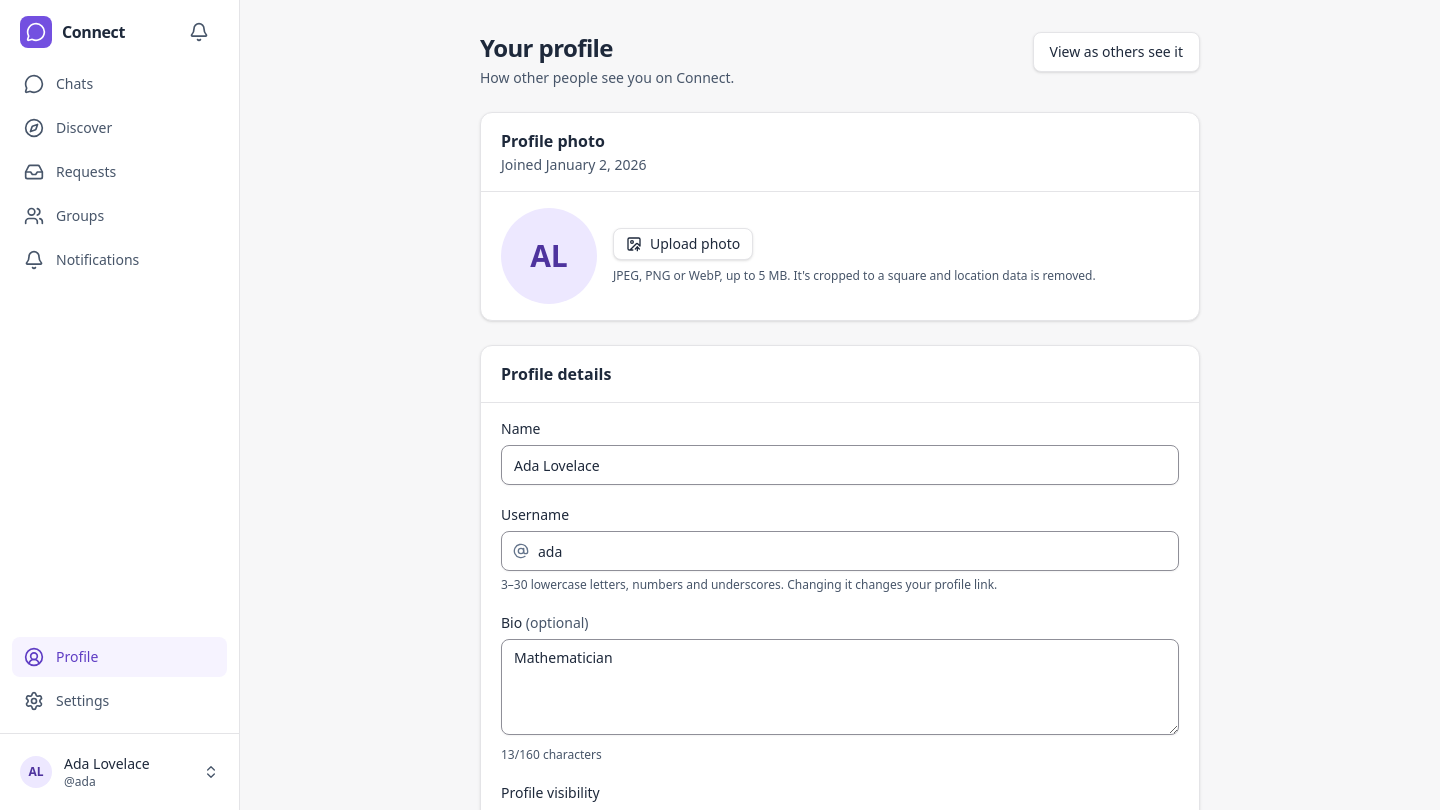
Scenario: your profile › shows a taken username next to the field
Replace the text in the field labelled "Username" with "grace" at {"x": 840, "y": 551}, box [501, 531, 1179, 571]
(page scrolled)
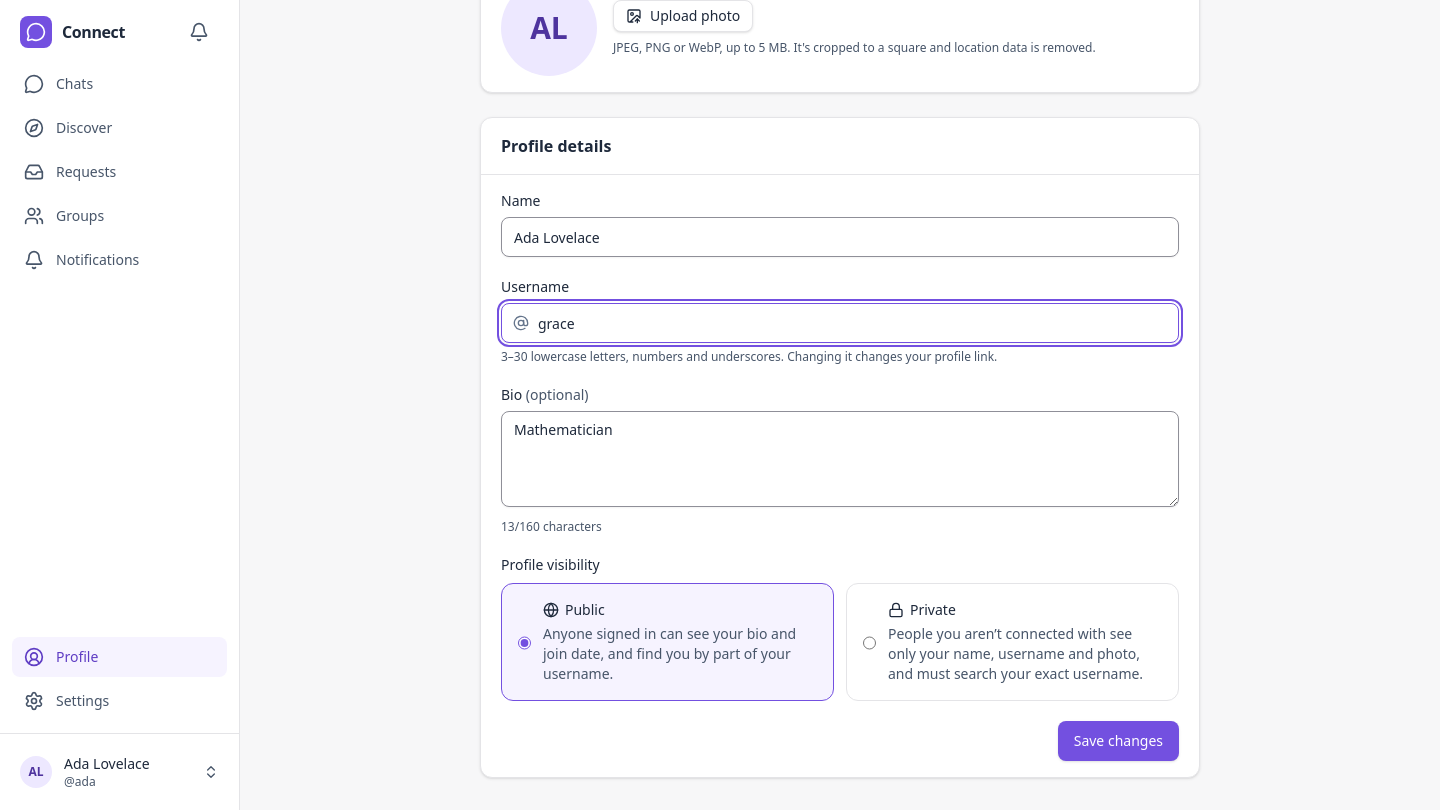
Click the button "Save changes" at {"x": 1118, "y": 741}, box [1058, 721, 1179, 761]
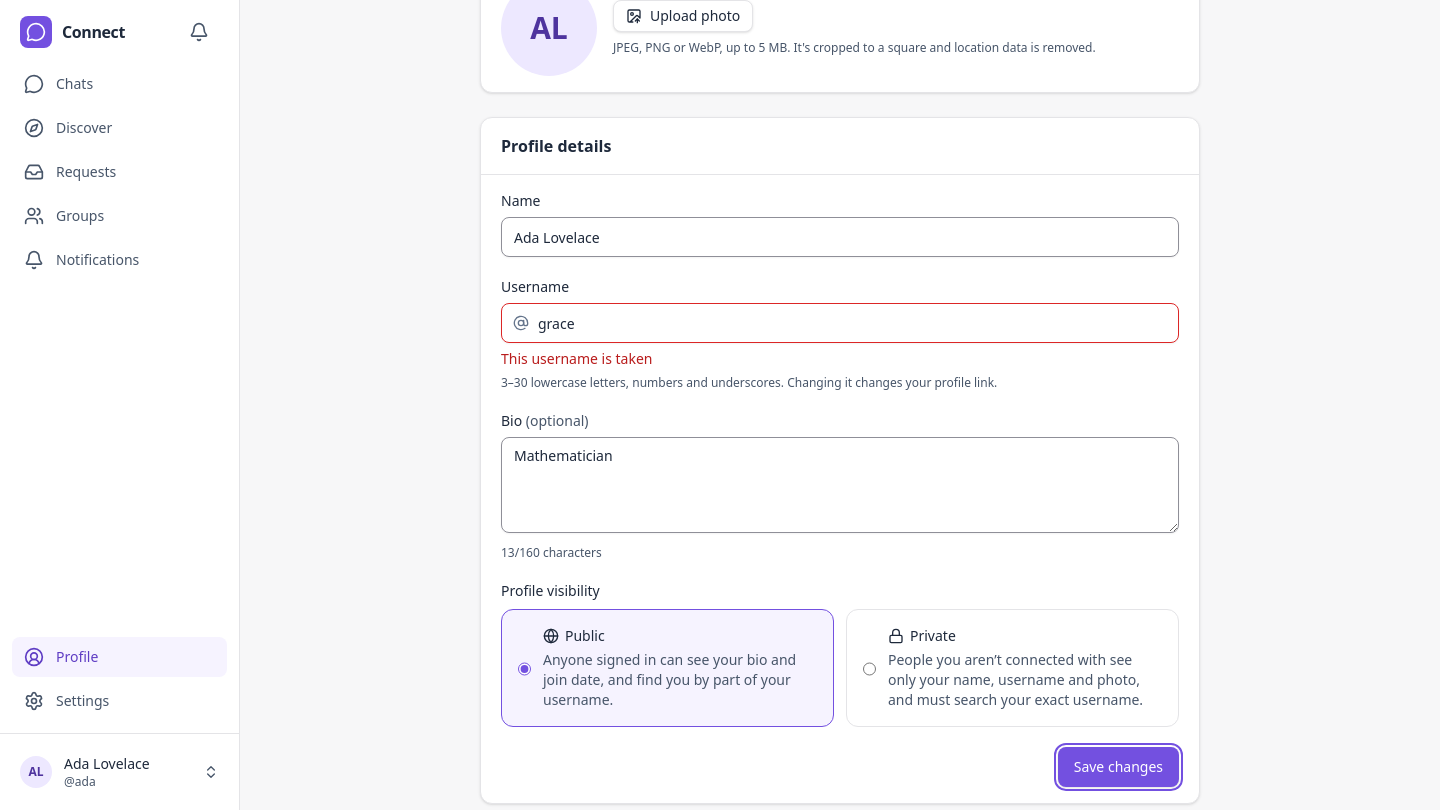
Expected: the text "This username is taken" is shown, [501, 349, 652, 368]
